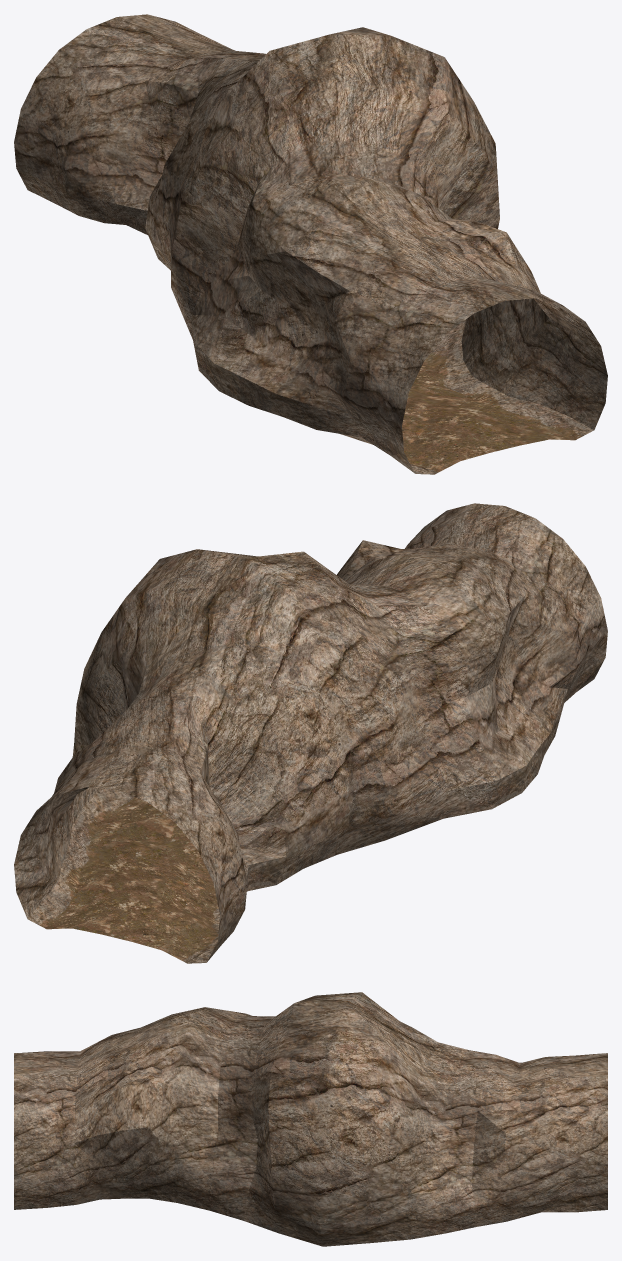
File: CaveCorridorStraightWide.obj
The picture shows the model from 3 angles, top to bottom: view 1: azimuth 30°, elevation 25°; view 2: azimuth 150°, elevation 25°; view 3: azimuth 270°, elevation 25°; orthographic projection. The views are drawn at different scales.
Visible parts, largest first — view 1: CaveCorridorStraightWide; view 2: CaveCorridorStraightWide; view 3: CaveCorridorStraightWide.
Part boxes in pixels (x1,y1,x2,y2): CaveCorridorStraightWide: (14,14,607,474); CaveCorridorStraightWide: (14,503,607,963); CaveCorridorStraightWide: (14,992,607,1246).
Size of the model in its own units: 5.36 by 3.85 by 10.4.
